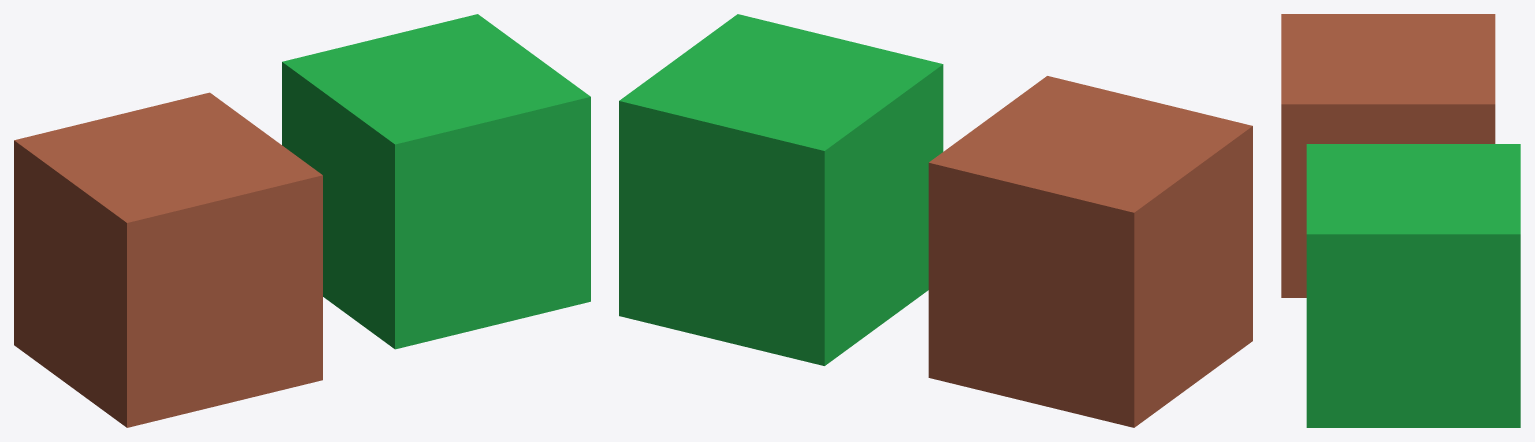
The model's file is boxes.glb.
3 views of the same model, side by side, from view 1: azimuth 30°, elevation 25°; view 2: azimuth 150°, elevation 25°; view 3: azimuth 270°, elevation 25° (orthographic). The views are drawn at different scales.
Size of the model in its own units: 0.0975 by 0.04 by 0.0448.
